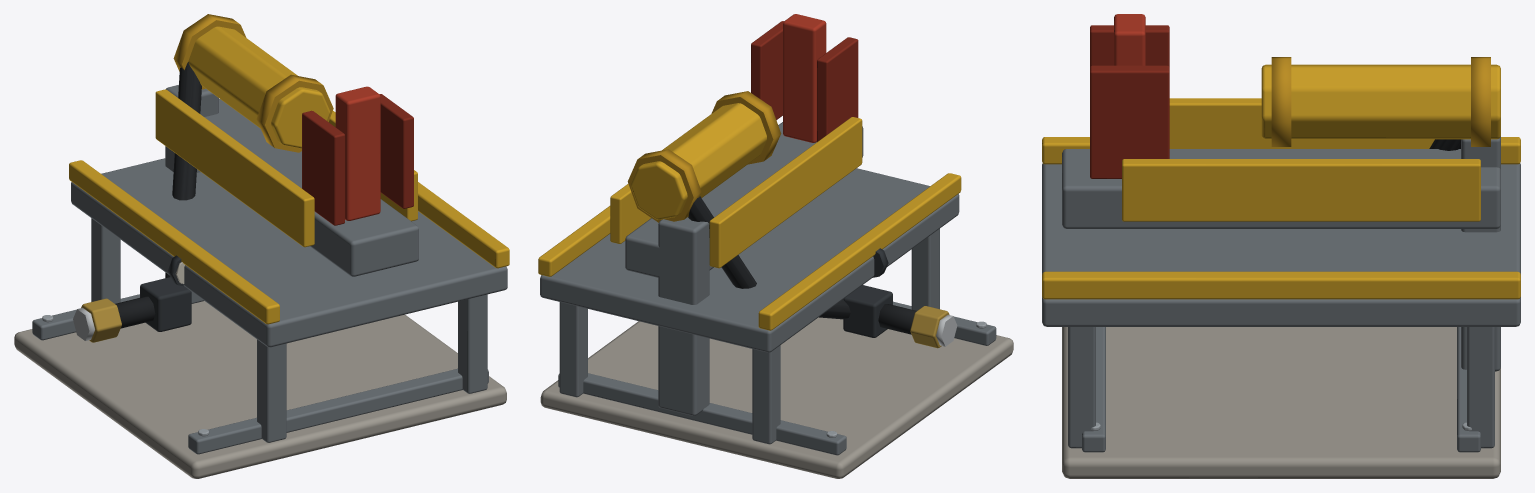
File: pp_splitter.glb
3 views of the same model, side by side, from view 1: azimuth 30°, elevation 25°; view 2: azimuth 150°, elevation 25°; view 3: azimuth 270°, elevation 25° (orthographic). The views are drawn at different scales.
Visible parts, largest first — view 1: block.001, block.004, block.015, block.011, cyl.001, block.009, block.002, block.012, block.013, block.014, block.006, block.005 (+12 smaller); view 2: block.001, block.004, block.015, cyl.001, block.017, block.009, block.011, block.012, block.003, block.013, block.008, block.007 (+12 smaller); view 3: block.001, block.004, block.016, cyl.001, block.010, block.011, block.014, block.015, block.005, block.007, block.013, cyl.002 (+6 smaller).
Part boxes in pixels (x1,y1,x2,y2): block.001: (14, 301, 506, 478); block.004: (71, 158, 507, 347); block.015: (155, 89, 314, 247); block.011: (204, 99, 418, 276); cyl.001: (188, 26, 330, 148); block.009: (69, 160, 279, 324); block.002: (188, 368, 488, 454); block.012: (335, 86, 380, 220); block.013: (302, 110, 344, 225); block.014: (379, 94, 413, 208); block.006: (257, 339, 286, 442); block.005: (458, 294, 487, 393); block.001: (540, 317, 1013, 478); block.004: (540, 168, 959, 352); block.015: (709, 117, 862, 268); cyl.001: (631, 103, 766, 219); block.017: (658, 217, 709, 415); block.009: (758, 173, 961, 330); block.011: (625, 122, 863, 282); block.012: (783, 14, 826, 142); block.003: (558, 373, 846, 455); block.013: (817, 37, 858, 141); block.008: (752, 345, 780, 444); block.007: (559, 302, 587, 397); block.001: (1062, 327, 1500, 478); block.004: (1042, 163, 1520, 326); block.016: (1122, 159, 1480, 221); cyl.001: (1261, 64, 1500, 139); block.010: (1042, 271, 1520, 299); block.011: (1062, 149, 1500, 228); block.014: (1090, 65, 1169, 178); block.015: (1169, 98, 1434, 148); block.005: (1068, 327, 1095, 448); block.007: (1467, 327, 1494, 448); block.013: (1090, 25, 1169, 66); cyl.002: (1271, 57, 1291, 146).
Size of the model in its own units: 1.18 by 1.07 by 1.2.
